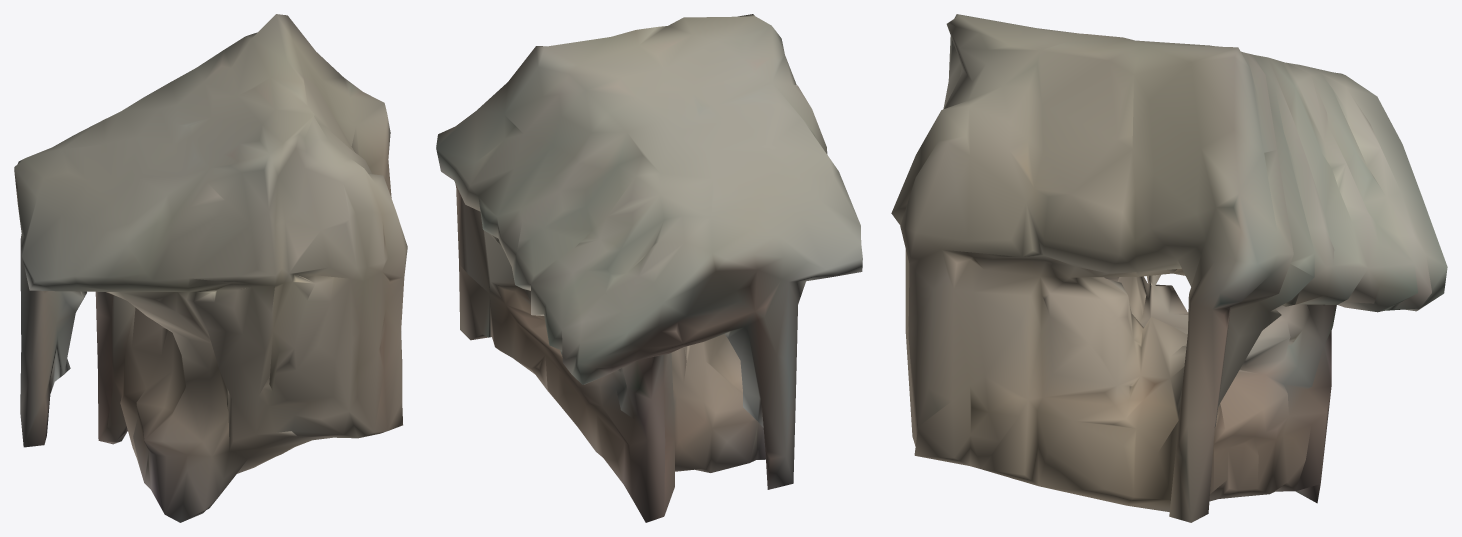
File: banca_verde.glb
3 views of the same model, side by side, from view 1: azimuth 30°, elevation 25°; view 2: azimuth 150°, elevation 25°; view 3: azimuth 270°, elevation 25° (orthographic). The views are drawn at different scales.
Bounding box in the file's own units: 0.9453 × 0.9761 × 0.9134.
